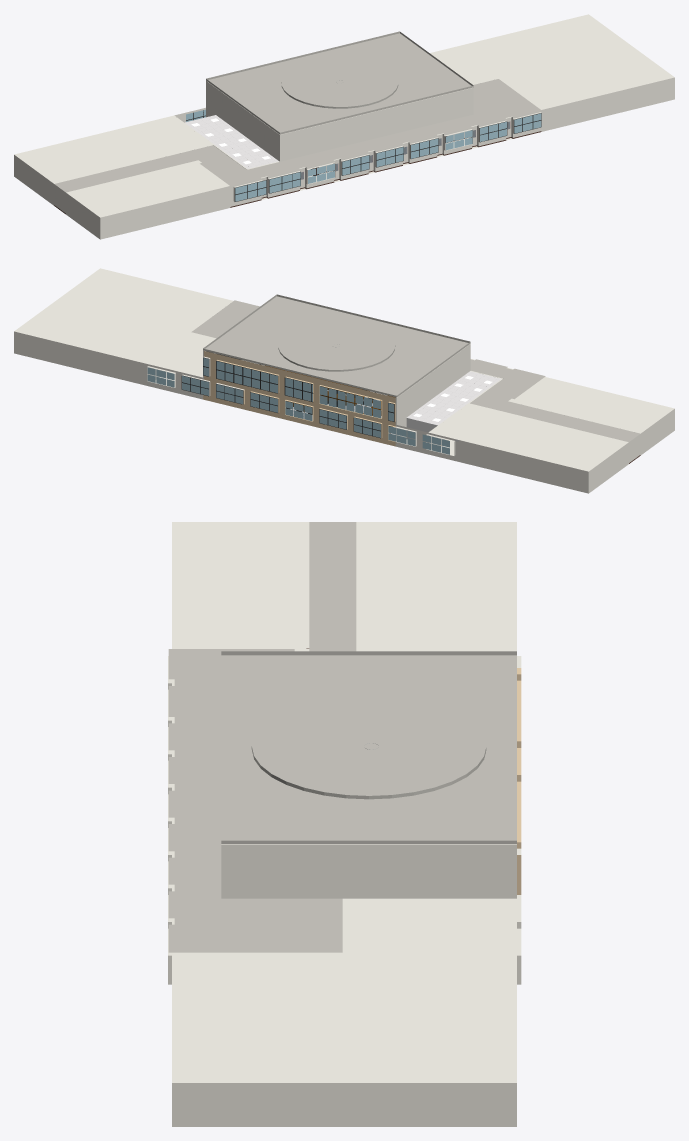
File: 9th_floor.glb
3 renders of one model, top to bottom at view 1: azimuth 30°, elevation 25°; view 2: azimuth 150°, elevation 25°; view 3: azimuth 270°, elevation 25°, orthographic. The views are drawn at different scales.
Parts seen in each view (by area): view 1: 楼板, 楼顶.001, 楼板.001, 内部窗户, 楼板.031, 楼板.039, 楼板.037, Plane.011, 楼板.030, 楼板.032; view 2: 楼板, 楼顶.001, 楼板.026, 楼板.001, 内部窗户.001, Cube.739, 楼板.037, Plane.011; view 3: 楼板, 楼顶.001, 楼板.001, 楼板.027, 楼板.026.
Boxes of the visible parts, bbox=[...] form: 楼板: bbox=[14, 14, 674, 239]; 楼顶.001: bbox=[206, 31, 473, 134]; 楼板.001: bbox=[54, 79, 541, 192]; 内部窗户: bbox=[235, 113, 541, 201]; 楼板.031: bbox=[313, 96, 436, 174]; 楼板.039: bbox=[233, 111, 541, 206]; 楼板.037: bbox=[206, 81, 279, 160]; Plane.011: bbox=[185, 115, 278, 168]; 楼板.030: bbox=[447, 87, 473, 142]; 楼板.032: bbox=[281, 129, 302, 161]; 楼板: bbox=[14, 268, 674, 493]; 楼顶.001: bbox=[203, 294, 470, 397]; 楼板.026: bbox=[202, 350, 396, 446]; 楼板.001: bbox=[191, 300, 639, 441]; 内部窗户.001: bbox=[147, 367, 449, 454]; Cube.739: bbox=[203, 357, 394, 421]; 楼板.037: bbox=[396, 344, 469, 440]; Plane.011: bbox=[407, 371, 500, 425]; 楼板: bbox=[172, 522, 521, 1126]; 楼顶.001: bbox=[221, 651, 516, 844]; 楼板.001: bbox=[168, 522, 356, 952]; 楼板.027: bbox=[221, 844, 516, 898]; 楼板.026: bbox=[517, 668, 521, 902].
Bounding box in the file's own units: 6.35 × 0.553 × 1.69.
75 materials, 8 textured.
